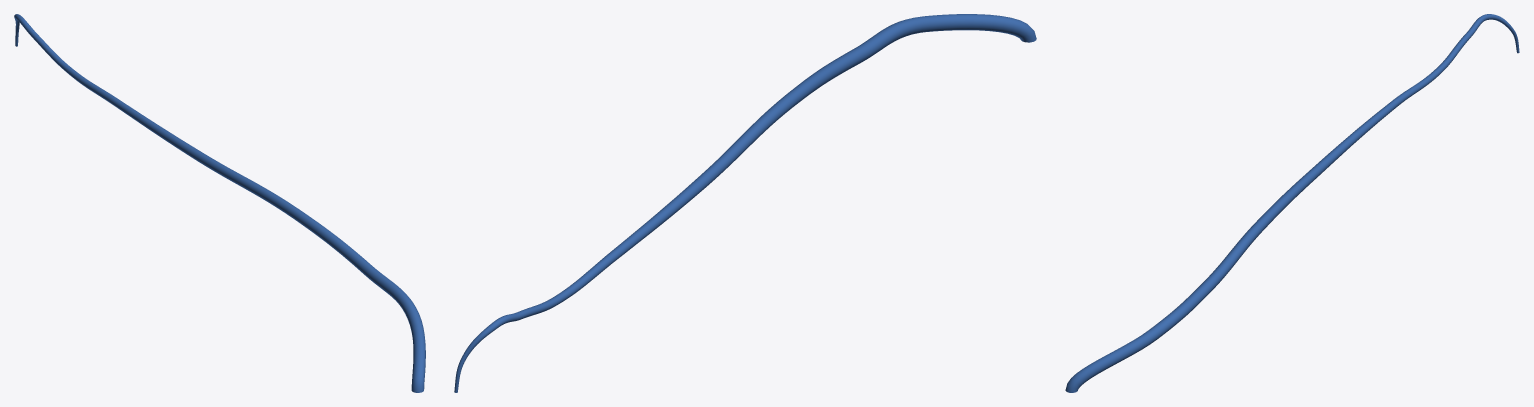
3 views of the same model, side by side, from view 1: azimuth 30°, elevation 25°; view 2: azimuth 150°, elevation 25°; view 3: azimuth 330°, elevation 25° (orthographic). The views are drawn at different scales.
Parts seen in each view (by area): view 1: 左侧腓静脉; view 2: 左侧腓静脉; view 3: 左侧腓静脉.
Part boxes in pixels (x1,y1,x2,y2): 左侧腓静脉: [14, 14, 425, 392]; 左侧腓静脉: [454, 14, 1036, 392]; 左侧腓静脉: [1065, 14, 1519, 392].
Bounding box in the file's own units: 0.0345 × 0.0478 × 0.4736.
